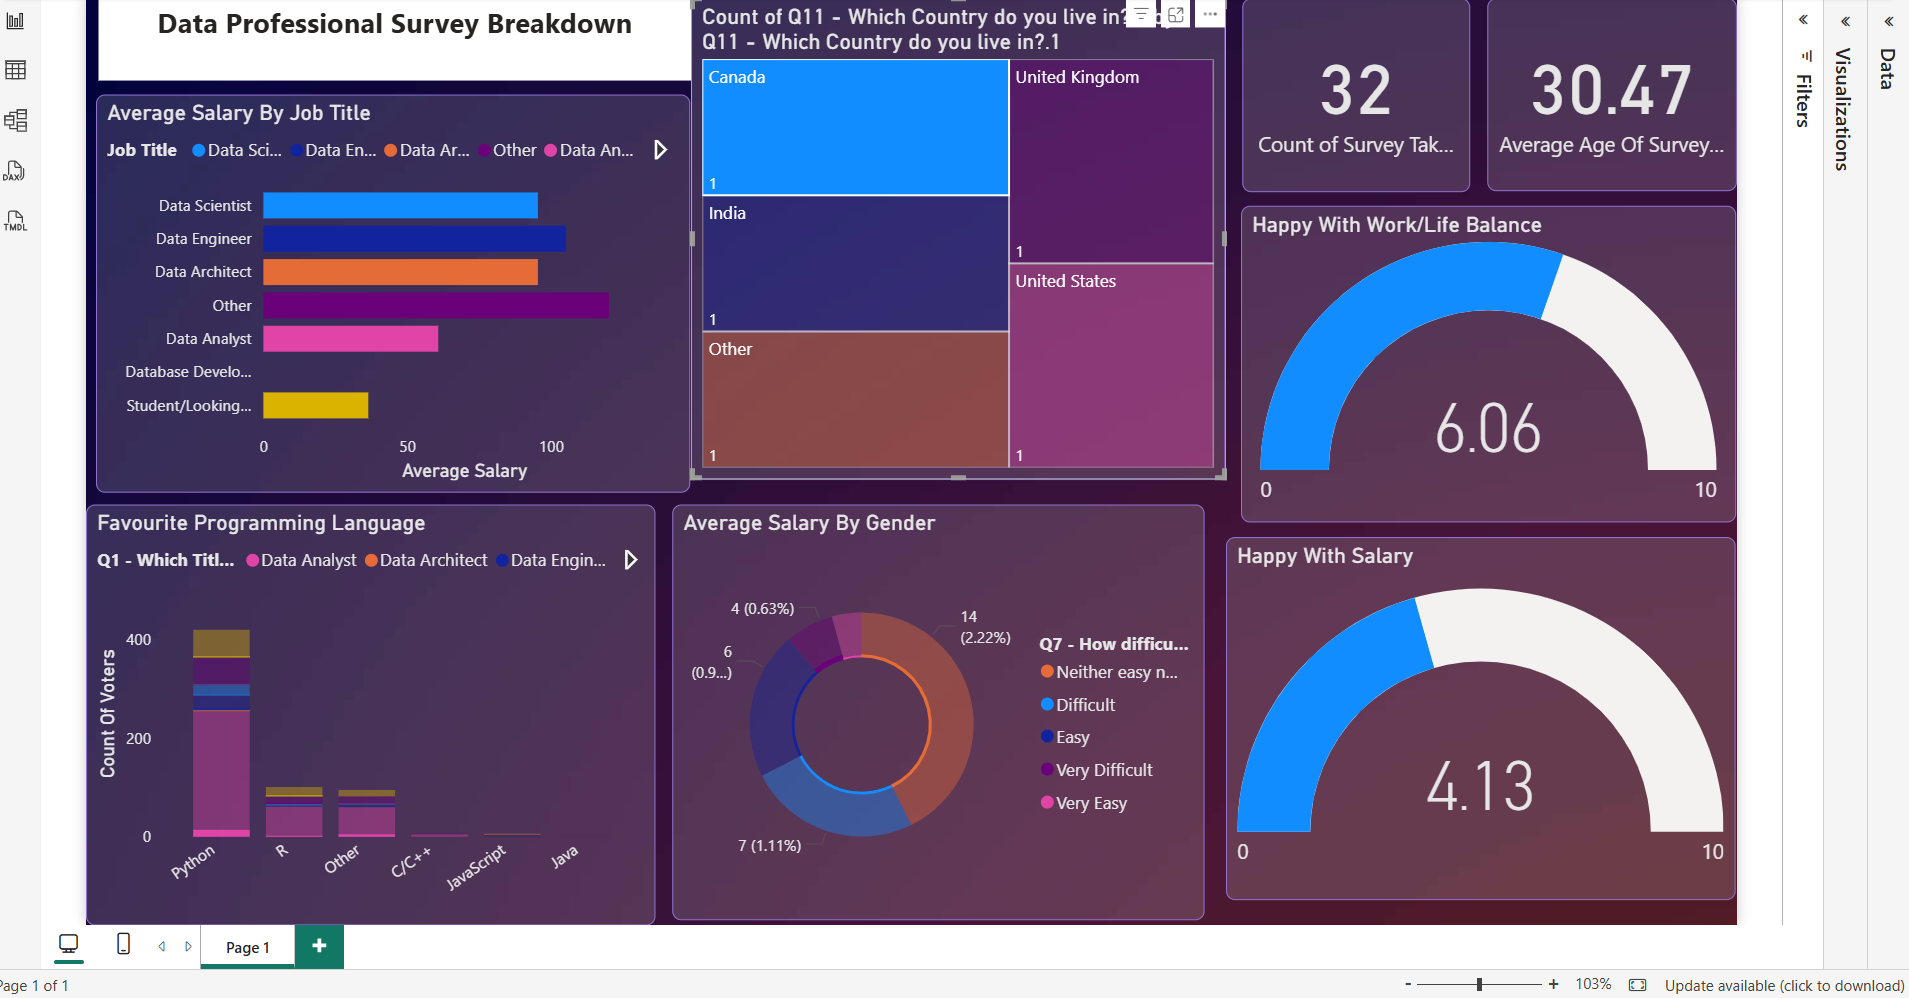

This screenshot's page, from the dashboard's own definition file:
{"tool":"powerbi","page":{"name":"Page 1","canvas":[1280,720],"ordinal":0},"visuals":[{"type":"textbox","box":[9.6,0,459.7,64.5],"z":0},{"type":"card","fields":{"Values":["Count(Data Professional Survey.Unique ID)"]},"box":[896.5,1.2,176.7,150],"z":1000},{"type":"card","fields":{"Values":["Avg(Data Professional Survey.Q10 - Current Age)"]},"box":[1086.8,1.4,193.5,149.6],"z":2000},{"type":"barChart","title":"Average Salary By Job Title","fields":{"Category":["Data Professional Survey.Q1 - Which Title Best Fits your Current Role?.1"],"Y":["Avg(Data Professional Survey.Average Salary)"],"Series":["Data Professional Survey.Q1 - Which Title Best Fits your Current Role?.1"]},"box":[8.2,75.5,461.1,308.7],"z":3000},{"type":"columnChart","title":"Favourite Programming Language","fields":{"Category":["Data Professional Survey.Q5 - Favorite Programming Language.1"],"Y":["CountNonNull(Data Professional Survey.Unique ID)"],"Series":["Data Professional Survey.Q1 - Which Title Best Fits your Current Role?.1"]},"box":[0,393.8,441.9,326.6],"z":4000},{"type":"treemap","fields":{"Group":["Data Professional Survey.Q11 - Which Country do you live in?.1"],"Values":["Count(Data Professional Survey.Q11 - Which Country do you live in?.1)"]},"box":[469.3,1.4,414.4,373.2],"z":5000},{"type":"gauge","title":" Happy With Work/Life Balance","fields":{"Y":["Avg(Data Professional Survey.Q6 - How Happy are you in your Current Position with the following? (Work/Life Balance))"],"MinValue":["Min(Data Professional Survey.Q6 - How Happy are you in your Current Position with the following? (Work/Life Balance))1"],"MaxValue":["Max(Data Professional Survey.Q6 - How Happy are you in your Current Position with the following? (Work/Life Balance))2"]},"box":[896.1,161.9,384.2,245.6],"z":6000},{"type":"gauge","title":"Happy With Salary","fields":{"Y":["Avg(Data Professional Survey.Q6 - How Happy are you in your Current Position with the following? (Salary))"],"MinValue":["Min(Data Professional Survey.Q6 - How Happy are you in your Current Position with the following? (Salary))"],"MaxValue":["Max(Data Professional Survey.Q6 - How Happy are you in your Current Position with the following? (Salary))"]},"box":[883.7,418.5,395.2,281.3],"z":7000},{"type":"donutChart","title":"Average Salary By Gender","fields":{"Category":["Data Professional Survey.Q7 - How difficult was it for you to break into Data?"],"Y":["CountNonNull(Data Professional Survey.Q7 - How difficult was it for you to break into Data?)"]},"box":[454.2,393.8,413,322.5],"z":8000}]}

Visuals, with their boxes on the page's 1280x720 design canvas (x1, y1, x2, y2). These are canvas units, not pixel positions in the 1909x998 screenshot, which may show the page scaled, cropped or inside an application window:
textbox: [10, 0, 469, 64]
card - Count(Data Professional Survey.Unique ID): [896, 1, 1073, 151]
card - Avg(Data Professional Survey.Q10 - Current Age): [1087, 1, 1280, 151]
"Average Salary By Job Title" barChart: [8, 76, 469, 384]
"Favourite Programming Language" columnChart: [0, 394, 442, 720]
treemap - Data Professional Survey.Q11 - Which Country do you live in?.1 x Count(Data Professional Survey.Q11 - Which Country do you live in?.1): [469, 1, 884, 375]
" Happy With Work/Life Balance" gauge: [896, 162, 1280, 408]
"Happy With Salary" gauge: [884, 418, 1279, 700]
"Average Salary By Gender" donutChart: [454, 394, 867, 716]
